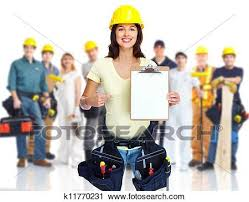Person_wearing_helmet: (106, 4, 144, 33)
